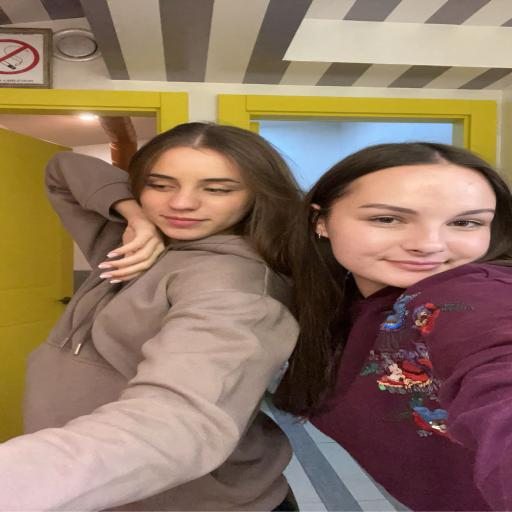marija: (336, 162, 500, 288)
masa: (147, 142, 261, 245)
